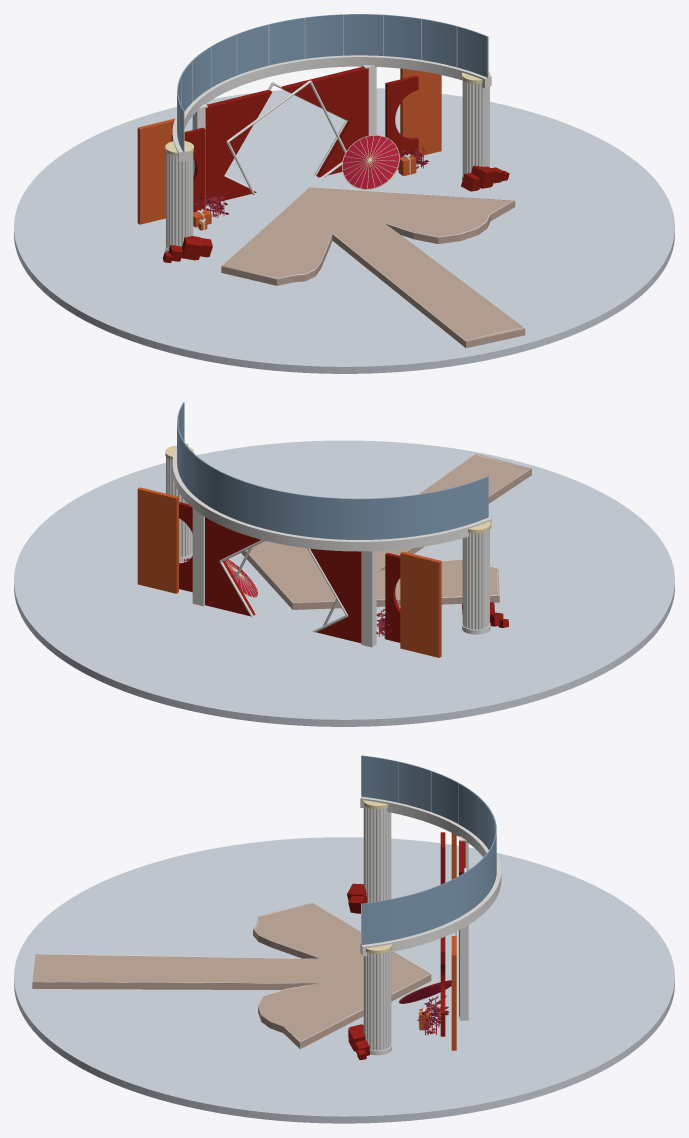
3 views of the same model, one above another, from view 1: azimuth 30°, elevation 25°; view 2: azimuth 150°, elevation 25°; view 3: azimuth 270°, elevation 25° (orthographic).
Parts seen in each view (by area): view 1: GROUND_finite_work_extent, STAGE_shared_rounded_lobes, GLASS_finite_arc, WALL_red_with_opening, BAND_finite_arc, L_rear_ORANGE, R_rear_ORANGE, UMBRELLA_paper, R_front_NOTCHED, L_front_NOTCHED, STAGE_shared_border, R_COLUMN_core (+2 smaller); view 2: GROUND_finite_work_extent, GLASS_finite_arc, STAGE_shared_rounded_lobes, WALL_red_with_opening, R_rear_ORANGE, L_rear_ORANGE, BAND_finite_arc, WALL_white_reveal, L_front_NOTCHED, WALL_white_reveal.001, L_COLUMN_core, R_front_NOTCHED; view 3: GROUND_finite_work_extent, STAGE_shared_rounded_lobes, GLASS_finite_arc, BAND_finite_arc, STAGE_shared_border, R_COLUMN_core, WALL_white_reveal.001, L_COLUMN_core, R_rear_ORANGE, R_front_NOTCHED.
Boxes of the visible parts, bbox=[...] form: GROUND_finite_work_extent: bbox=[14, 88, 674, 373]; STAGE_shared_rounded_lobes: bbox=[221, 187, 525, 348]; GLASS_finite_arc: bbox=[177, 14, 488, 151]; WALL_red_with_opening: bbox=[205, 66, 368, 203]; BAND_finite_arc: bbox=[172, 55, 491, 161]; L_rear_ORANGE: bbox=[137, 118, 175, 224]; R_rear_ORANGE: bbox=[400, 68, 441, 155]; UMBRELLA_paper: bbox=[342, 135, 398, 188]; R_front_NOTCHED: bbox=[385, 75, 418, 160]; L_front_NOTCHED: bbox=[171, 127, 205, 212]; STAGE_shared_border: bbox=[222, 186, 523, 340]; R_COLUMN_core: bbox=[465, 82, 486, 173]; GROUND_finite_work_extent: bbox=[14, 440, 674, 726]; GLASS_finite_arc: bbox=[177, 402, 488, 539]; STAGE_shared_rounded_lobes: bbox=[241, 453, 531, 609]; WALL_red_with_opening: bbox=[205, 517, 361, 643]; R_rear_ORANGE: bbox=[137, 487, 178, 593]; L_rear_ORANGE: bbox=[400, 551, 441, 657]; BAND_finite_arc: bbox=[172, 443, 491, 551]; WALL_white_reveal: bbox=[361, 551, 376, 647]; L_front_NOTCHED: bbox=[385, 552, 400, 642]; WALL_white_reveal.001: bbox=[192, 508, 204, 606]; L_COLUMN_core: bbox=[465, 531, 486, 629]; R_front_NOTCHED: bbox=[179, 502, 192, 592]; GROUND_finite_work_extent: bbox=[14, 837, 674, 1123]; STAGE_shared_rounded_lobes: bbox=[32, 902, 431, 1048]; GLASS_finite_arc: bbox=[361, 755, 496, 944]; BAND_finite_arc: bbox=[360, 796, 501, 956]; STAGE_shared_border: bbox=[35, 902, 430, 1041]; R_COLUMN_core: bbox=[367, 952, 387, 1050]; WALL_white_reveal.001: bbox=[459, 925, 468, 1020]; L_COLUMN_core: bbox=[367, 807, 387, 902]; R_rear_ORANGE: bbox=[451, 936, 456, 1050]; R_front_NOTCHED: bbox=[440, 937, 445, 1036].
Size of what is drawn, in the model's own units: 22 by 6.55 by 22.
